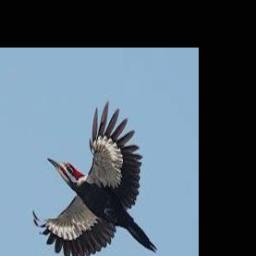Woodpecker: (32, 100, 157, 256)
